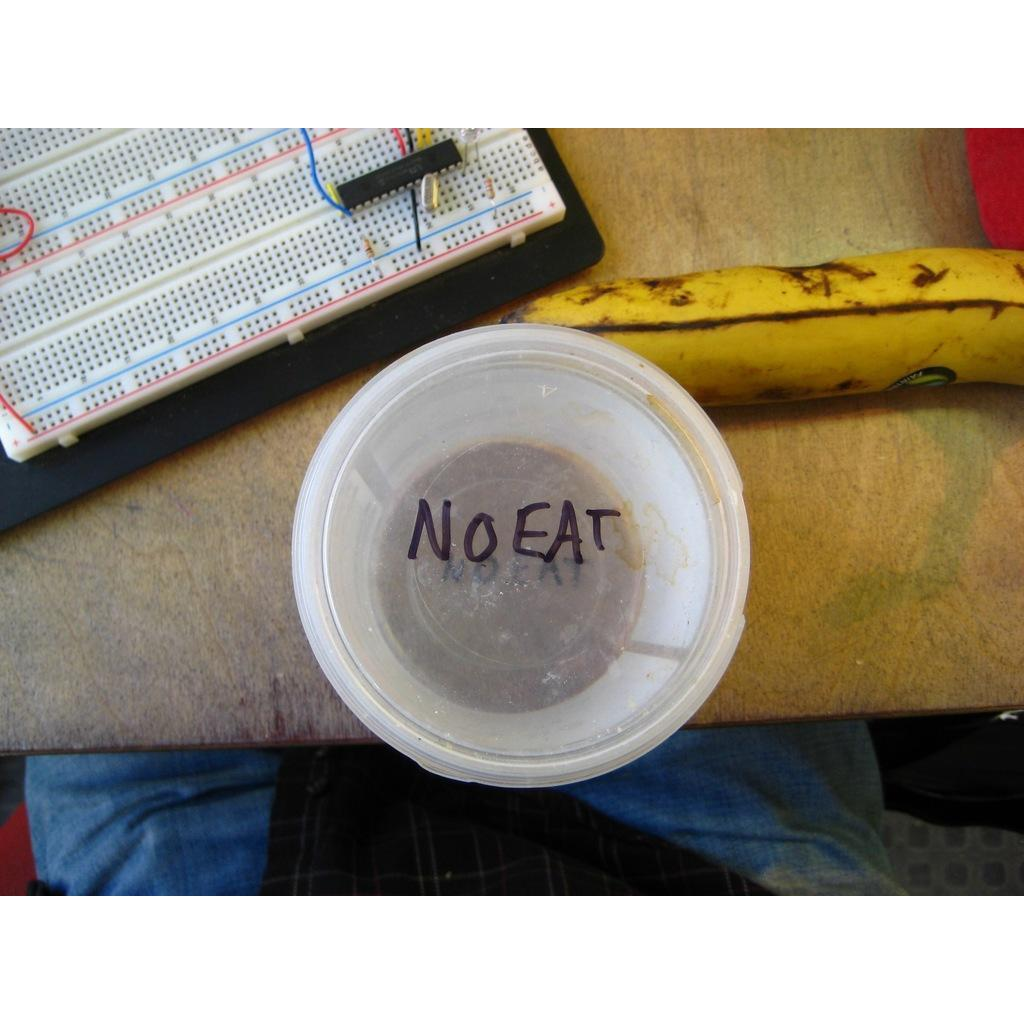banana: (504, 247, 1024, 411)
